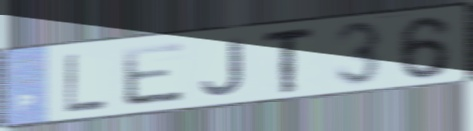3: (331, 18, 385, 91)
6: (395, 13, 455, 81)
E: (119, 40, 189, 109)
J: (198, 36, 246, 98)
L: (62, 50, 109, 114)
T: (261, 24, 318, 97)
